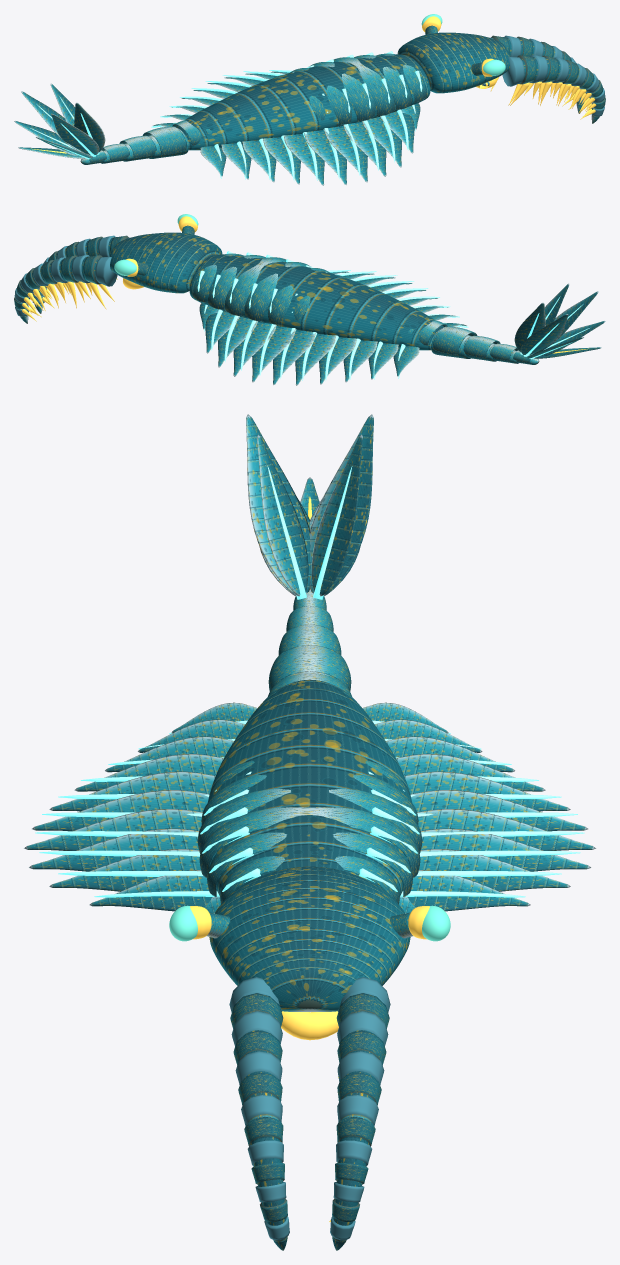
The model's file is anomalocaris.glb.
The picture shows the model from 3 angles, top to bottom: view 1: azimuth 30°, elevation 25°; view 2: azimuth 150°, elevation 25°; view 3: azimuth 270°, elevation 25°; orthographic projection. The views are drawn at different scales.
Visible parts, largest first — view 1: Anom_TrunkCore, Anom_HeadCapsule, Anom_Tergite_2, Anom_Tergite_3, Anom_FlapBlade9, Anom_FlapBlade11, Anom_FlapBlade7, Anom_FlapBlade13, Anom_TailBlade_1_-1, Anom_TailTergite0, Anom_Tergite_1, Anom_FlapBlade5 (+23 smaller); view 2: Anom_TrunkCore, Anom_HeadCapsule, Anom_Tergite_2, Anom_Tergite_3, Anom_FlapBlade8, Anom_FlapBlade10, Anom_FlapBlade6, Anom_FlapBlade12, Anom_TailBlade_1_1, Anom_TailTergite0, Anom_Tergite_1, Anom_FlapBlade4 (+23 smaller); view 3: Anom_HeadCapsule, Anom_TrunkCore, Anom_Tergite_2, Anom_TailBlade_2_-1, Anom_TailBlade_2_1, Anom_FlapBlade8, Anom_FlapBlade9, Anom_FlapBlade7, Anom_Tergite_3, Anom_FlapBlade6, Anom_TailBlade_1_1, Anom_TailBlade_1_-1 (+22 smaller).
Part boxes in pixels (x1,y1,x2,y2): Anom_TrunkCore: (176, 54, 430, 150); Anom_HeadCapsule: (397, 32, 510, 93); Anom_Tergite_2: (333, 57, 395, 115); Anom_Tergite_3: (309, 62, 375, 121); Anom_FlapBlade9: (324, 126, 367, 182); Anom_FlapBlade11: (304, 130, 346, 184); Anom_FlapBlade7: (343, 121, 386, 176); Anom_FlapBlade13: (284, 134, 324, 185); Anom_TailBlade_1_-1: (51, 114, 99, 154); Anom_TailTergite0: (142, 126, 187, 154); Anom_Tergite_1: (354, 55, 412, 109); Anom_FlapBlade5: (362, 117, 401, 167); Anom_TrunkCore: (189, 254, 443, 350); Anom_HeadCapsule: (109, 232, 222, 293); Anom_Tergite_2: (224, 257, 286, 315); Anom_Tergite_3: (244, 262, 310, 321); Anom_FlapBlade8: (252, 326, 295, 382); Anom_FlapBlade10: (273, 330, 315, 384); Anom_FlapBlade6: (233, 321, 276, 376); Anom_FlapBlade12: (295, 334, 335, 385); Anom_TailBlade_1_1: (520, 314, 568, 354); Anom_TailTergite0: (432, 326, 477, 354); Anom_Tergite_1: (207, 255, 265, 309); Anom_FlapBlade4: (218, 317, 257, 367); Anom_HeadCapsule: (209, 866, 410, 1011); Anom_TrunkCore: (207, 679, 412, 895); Anom_Tergite_2: (199, 807, 420, 877); Anom_TailBlade_2_-1: (257, 434, 308, 596); Anom_TailBlade_2_1: (311, 434, 362, 596); Anom_FlapBlade8: (417, 809, 595, 850); Anom_FlapBlade9: (24, 809, 202, 850); Anom_FlapBlade7: (29, 828, 198, 871); Anom_Tergite_3: (197, 789, 422, 853); Anom_FlapBlade6: (421, 828, 590, 871); Anom_TailBlade_1_1: (310, 414, 373, 595); Anom_TailBlade_1_-1: (246, 414, 309, 595).
Size of the model in its own units: 7 by 1.78 by 3.
7 materials, 3 textured.
